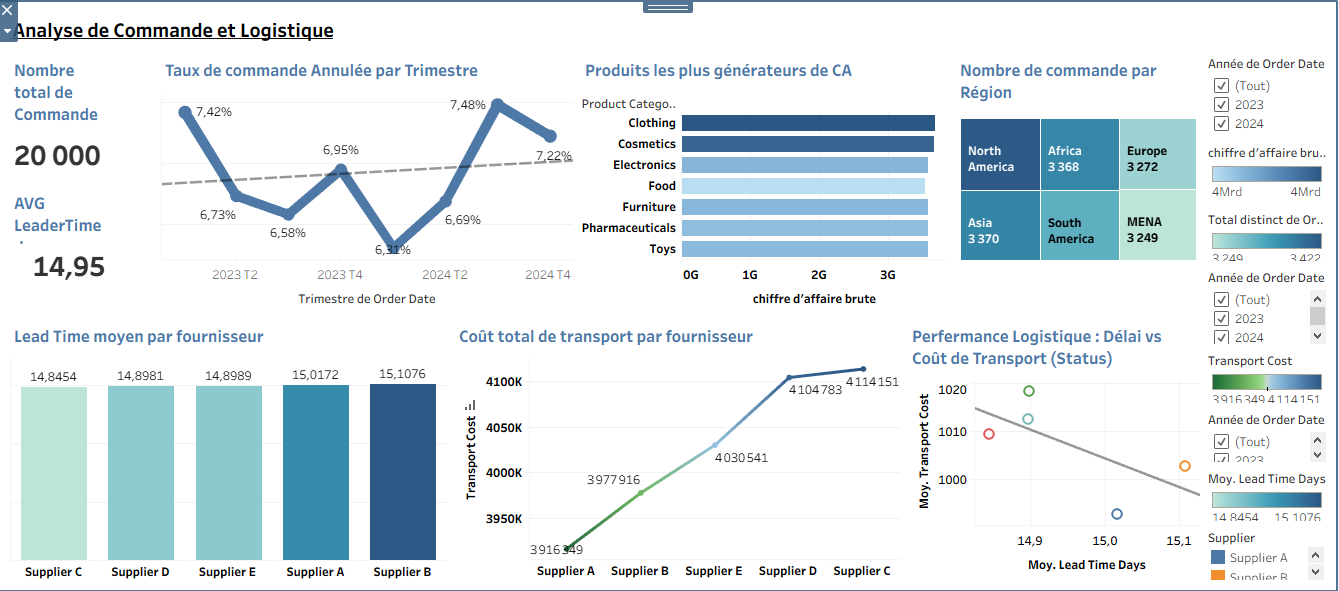

What the dashboard file says about the page in this screenshot:
{"tool":"tableau","page":{"name":"Tableau de bord 3","canvas":[1000,1000],"units":"permille","ordinal":1},"visuals":[{"type":"text","box":[5.9,11.5,988.3,72.2]},{"type":"worksheet","title":"Nombre total de Commande ","mark":"Automatic","box":[5.9,83.6,113.3,226.2]},{"type":"worksheet","title":"Taux de commande Annulée par Trimestre ","mark":"Line","rows":["Calculation_620652383736860673"],"cols":["OrderDate"],"box":[119.2,83.6,314.2,452.5]},{"type":"worksheet","title":"Produits les plus générateurs de CA","mark":"Automatic","rows":["ProductCategory"],"cols":["Calculation_161848171408433152"],"box":[433.3,83.6,280.2,452.5]},{"type":"worksheet","title":"Nombre de commande par Région ","mark":"Automatic","box":[713.6,83.6,188.3,452.5]},{"type":"filter","title":"Produits les plus générateurs de CA","param":"[federated.0u9vkph17noat61fpxvlt0419qn1].[yr:OrderDate:ok]","box":[901.9,83.6,92.2,127.5]},{"type":"legend","title":"Produits les plus générateurs de CA","param":"[federated.0u9vkph17noat61fpxvlt0419qn1].[sum:Calculation_161848171408433152:qk]","box":[901.9,211.1,92.2,96]},{"type":"legend","title":"Nombre de commande par Région ","param":"[federated.0u9vkph17noat61fpxvlt0419qn1].[ctd:OrderID:qk]","box":[901.9,307.1,92.2,93.1]},{"type":"worksheet","title":"AVG LeaderTimeday","mark":"Automatic","box":[5.9,309.9,113.3,226.2]},{"type":"filter","title":"Coût total de transport par fournisseur ","param":"[federated.0u9vkph17noat61fpxvlt0419qn1].[yr:OrderDate:ok]","box":[901.9,400.2,92.2,118.9]},{"type":"legend","title":"Coût total de transport par fournisseur ","param":"[federated.0u9vkph17noat61fpxvlt0419qn1].[sum:TransportCost:qk]","box":[901.9,519.1,92.2,93.1]},{"type":"worksheet","title":"Lead Time moyen par fournisseur ","mark":"Bar","rows":["LeadTimeDays"],"cols":["Supplier"],"box":[5.9,536.1,332.9,452.5]},{"type":"worksheet","title":"Coût total de transport par fournisseur ","mark":"Line","rows":["TransportCost"],"cols":["Supplier"],"box":[338.7,536.1,339.2,452.5]},{"type":"worksheet","title":"Perfermance Logistique : Délai vs Coût de Transport (Status)","mark":"Automatic","rows":["TransportCost"],"cols":["LeadTimeDays"],"box":[677.9,536.1,224,452.5]},{"type":"filter","title":"Lead Time moyen par fournisseur ","param":"[federated.0u9vkph17noat61fpxvlt0419qn1].[yr:OrderDate:ok]","box":[901.9,612.3,92.2,127.5]},{"type":"legend","title":"Lead Time moyen par fournisseur ","param":"[federated.0u9vkph17noat61fpxvlt0419qn1].[avg:LeadTimeDays:qk]","box":[901.9,739.8,92.2,93.1]},{"type":"legend","title":"Perfermance Logistique : Délai vs Coût de Transport (Status)","param":"[federated.0u9vkph17noat61fpxvlt0419qn1].[none:Supplier:nk]","box":[901.9,832.9,92.2,155.6]}]}

Visuals, with their boxes on the dashboard's canvas, which has no fixed pixel size, in thousandths of its width and height (x1, y1, x2, y2). These are canvas units, not pixel positions in the 1339x591 screenshot, which may show the page scaled, cropped or inside an application window:
text: detection(6, 12, 994, 84)
"Nombre total de Commande " worksheet: detection(6, 84, 119, 310)
"Taux de commande Annulée par Trimestre " worksheet (Line marks): detection(119, 84, 433, 536)
"Produits les plus générateurs de CA" worksheet: detection(433, 84, 714, 536)
"Nombre de commande par Région " worksheet: detection(714, 84, 902, 536)
"Produits les plus générateurs de CA" filter: detection(902, 84, 994, 211)
"Produits les plus générateurs de CA" legend: detection(902, 211, 994, 307)
"Nombre de commande par Région " legend: detection(902, 307, 994, 400)
"AVG LeaderTimeday" worksheet: detection(6, 310, 119, 536)
"Coût total de transport par fournisseur " filter: detection(902, 400, 994, 519)
"Coût total de transport par fournisseur " legend: detection(902, 519, 994, 612)
"Lead Time moyen par fournisseur " worksheet (Bar marks): detection(6, 536, 339, 989)
"Coût total de transport par fournisseur " worksheet (Line marks): detection(339, 536, 678, 989)
"Perfermance Logistique : Délai vs Coût de Transport (Status)" worksheet: detection(678, 536, 902, 989)
"Lead Time moyen par fournisseur " filter: detection(902, 612, 994, 740)
"Lead Time moyen par fournisseur " legend: detection(902, 740, 994, 833)
"Perfermance Logistique : Délai vs Coût de Transport (Status)" legend: detection(902, 833, 994, 988)
